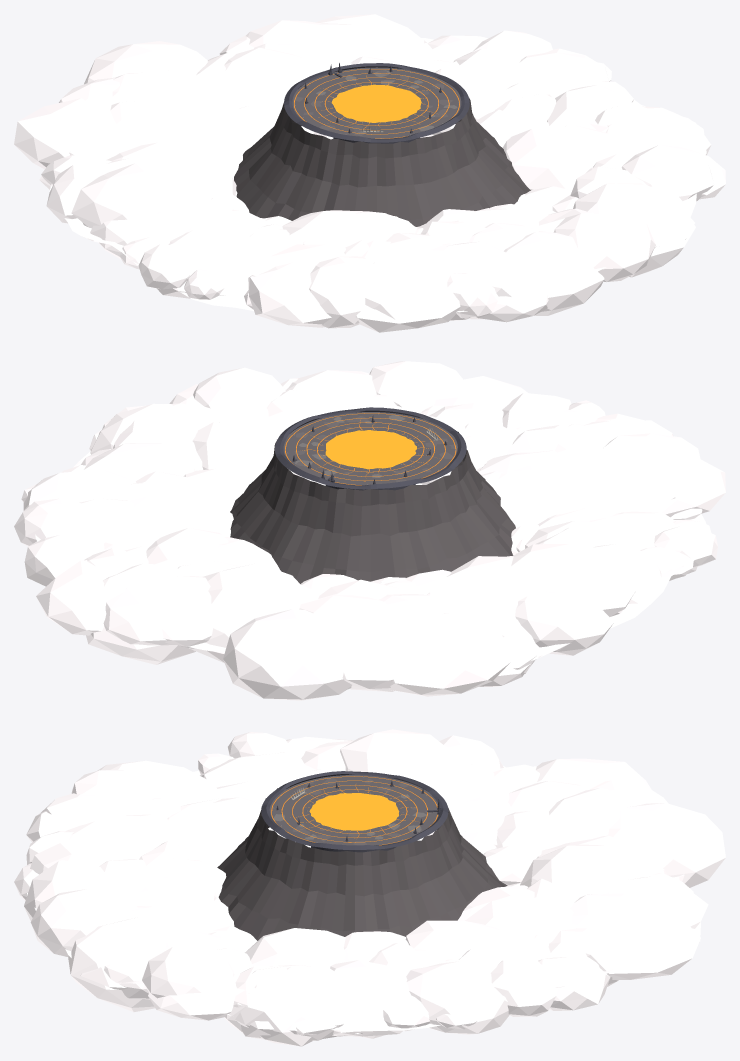
The model's file is arena_pyrelisk.glb.
The picture shows the model from 3 angles, top to bottom: view 1: azimuth 30°, elevation 25°; view 2: azimuth 150°, elevation 25°; view 3: azimuth 270°, elevation 25°; orthographic projection. The views are drawn at different scales.
Parts seen in each view (by area): view 1: PyreliskArena_CloudDeco, PyreliskArena_Flank, PyreliskArena_Base, PyreliskArena_Lava, PyreliskArena_Rim, PyreliskArena_SeamDeco, PyreliskArena_CrustDeco; view 2: PyreliskArena_CloudDeco, PyreliskArena_Flank, PyreliskArena_Base, PyreliskArena_Lava, PyreliskArena_Rim, PyreliskArena_SeamDeco, PyreliskArena_CrustDeco; view 3: PyreliskArena_CloudDeco, PyreliskArena_Flank, PyreliskArena_Base, PyreliskArena_Lava, PyreliskArena_Rim, PyreliskArena_SeamDeco, PyreliskArena_CrustDeco.
Part boxes in pixels (bbox=[...]): PyreliskArena_CloudDeco: bbox=[14, 14, 725, 332]; PyreliskArena_Flank: bbox=[234, 98, 530, 226]; PyreliskArena_Base: bbox=[292, 67, 461, 138]; PyreliskArena_Lava: bbox=[332, 84, 421, 122]; PyreliskArena_Rim: bbox=[284, 63, 469, 142]; PyreliskArena_SeamDeco: bbox=[294, 69, 459, 138]; PyreliskArena_CrustDeco: bbox=[294, 70, 453, 135]; PyreliskArena_CloudDeco: bbox=[14, 361, 725, 700]; PyreliskArena_Flank: bbox=[230, 432, 515, 583]; PyreliskArena_Base: bbox=[283, 412, 457, 485]; PyreliskArena_Lava: bbox=[325, 430, 416, 469]; PyreliskArena_Rim: bbox=[274, 407, 466, 489]; PyreliskArena_SeamDeco: bbox=[285, 413, 456, 485]; PyreliskArena_CrustDeco: bbox=[294, 416, 457, 482]; PyreliskArena_CloudDeco: bbox=[14, 729, 725, 1046]; PyreliskArena_Flank: bbox=[217, 788, 507, 940]; PyreliskArena_Base: bbox=[269, 775, 438, 845]; PyreliskArena_Lava: bbox=[309, 793, 399, 830]; PyreliskArena_Rim: bbox=[261, 771, 448, 849]; PyreliskArena_SeamDeco: bbox=[271, 776, 437, 845]; PyreliskArena_CrustDeco: bbox=[292, 777, 431, 845].
Bounding box in the file's own units: 1807 × 409 × 1915.
